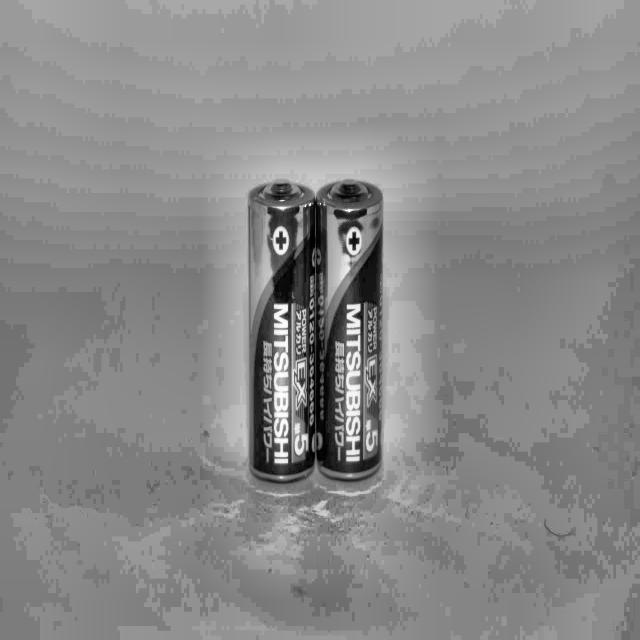drycell: (243, 176, 316, 489), (315, 177, 387, 483)
